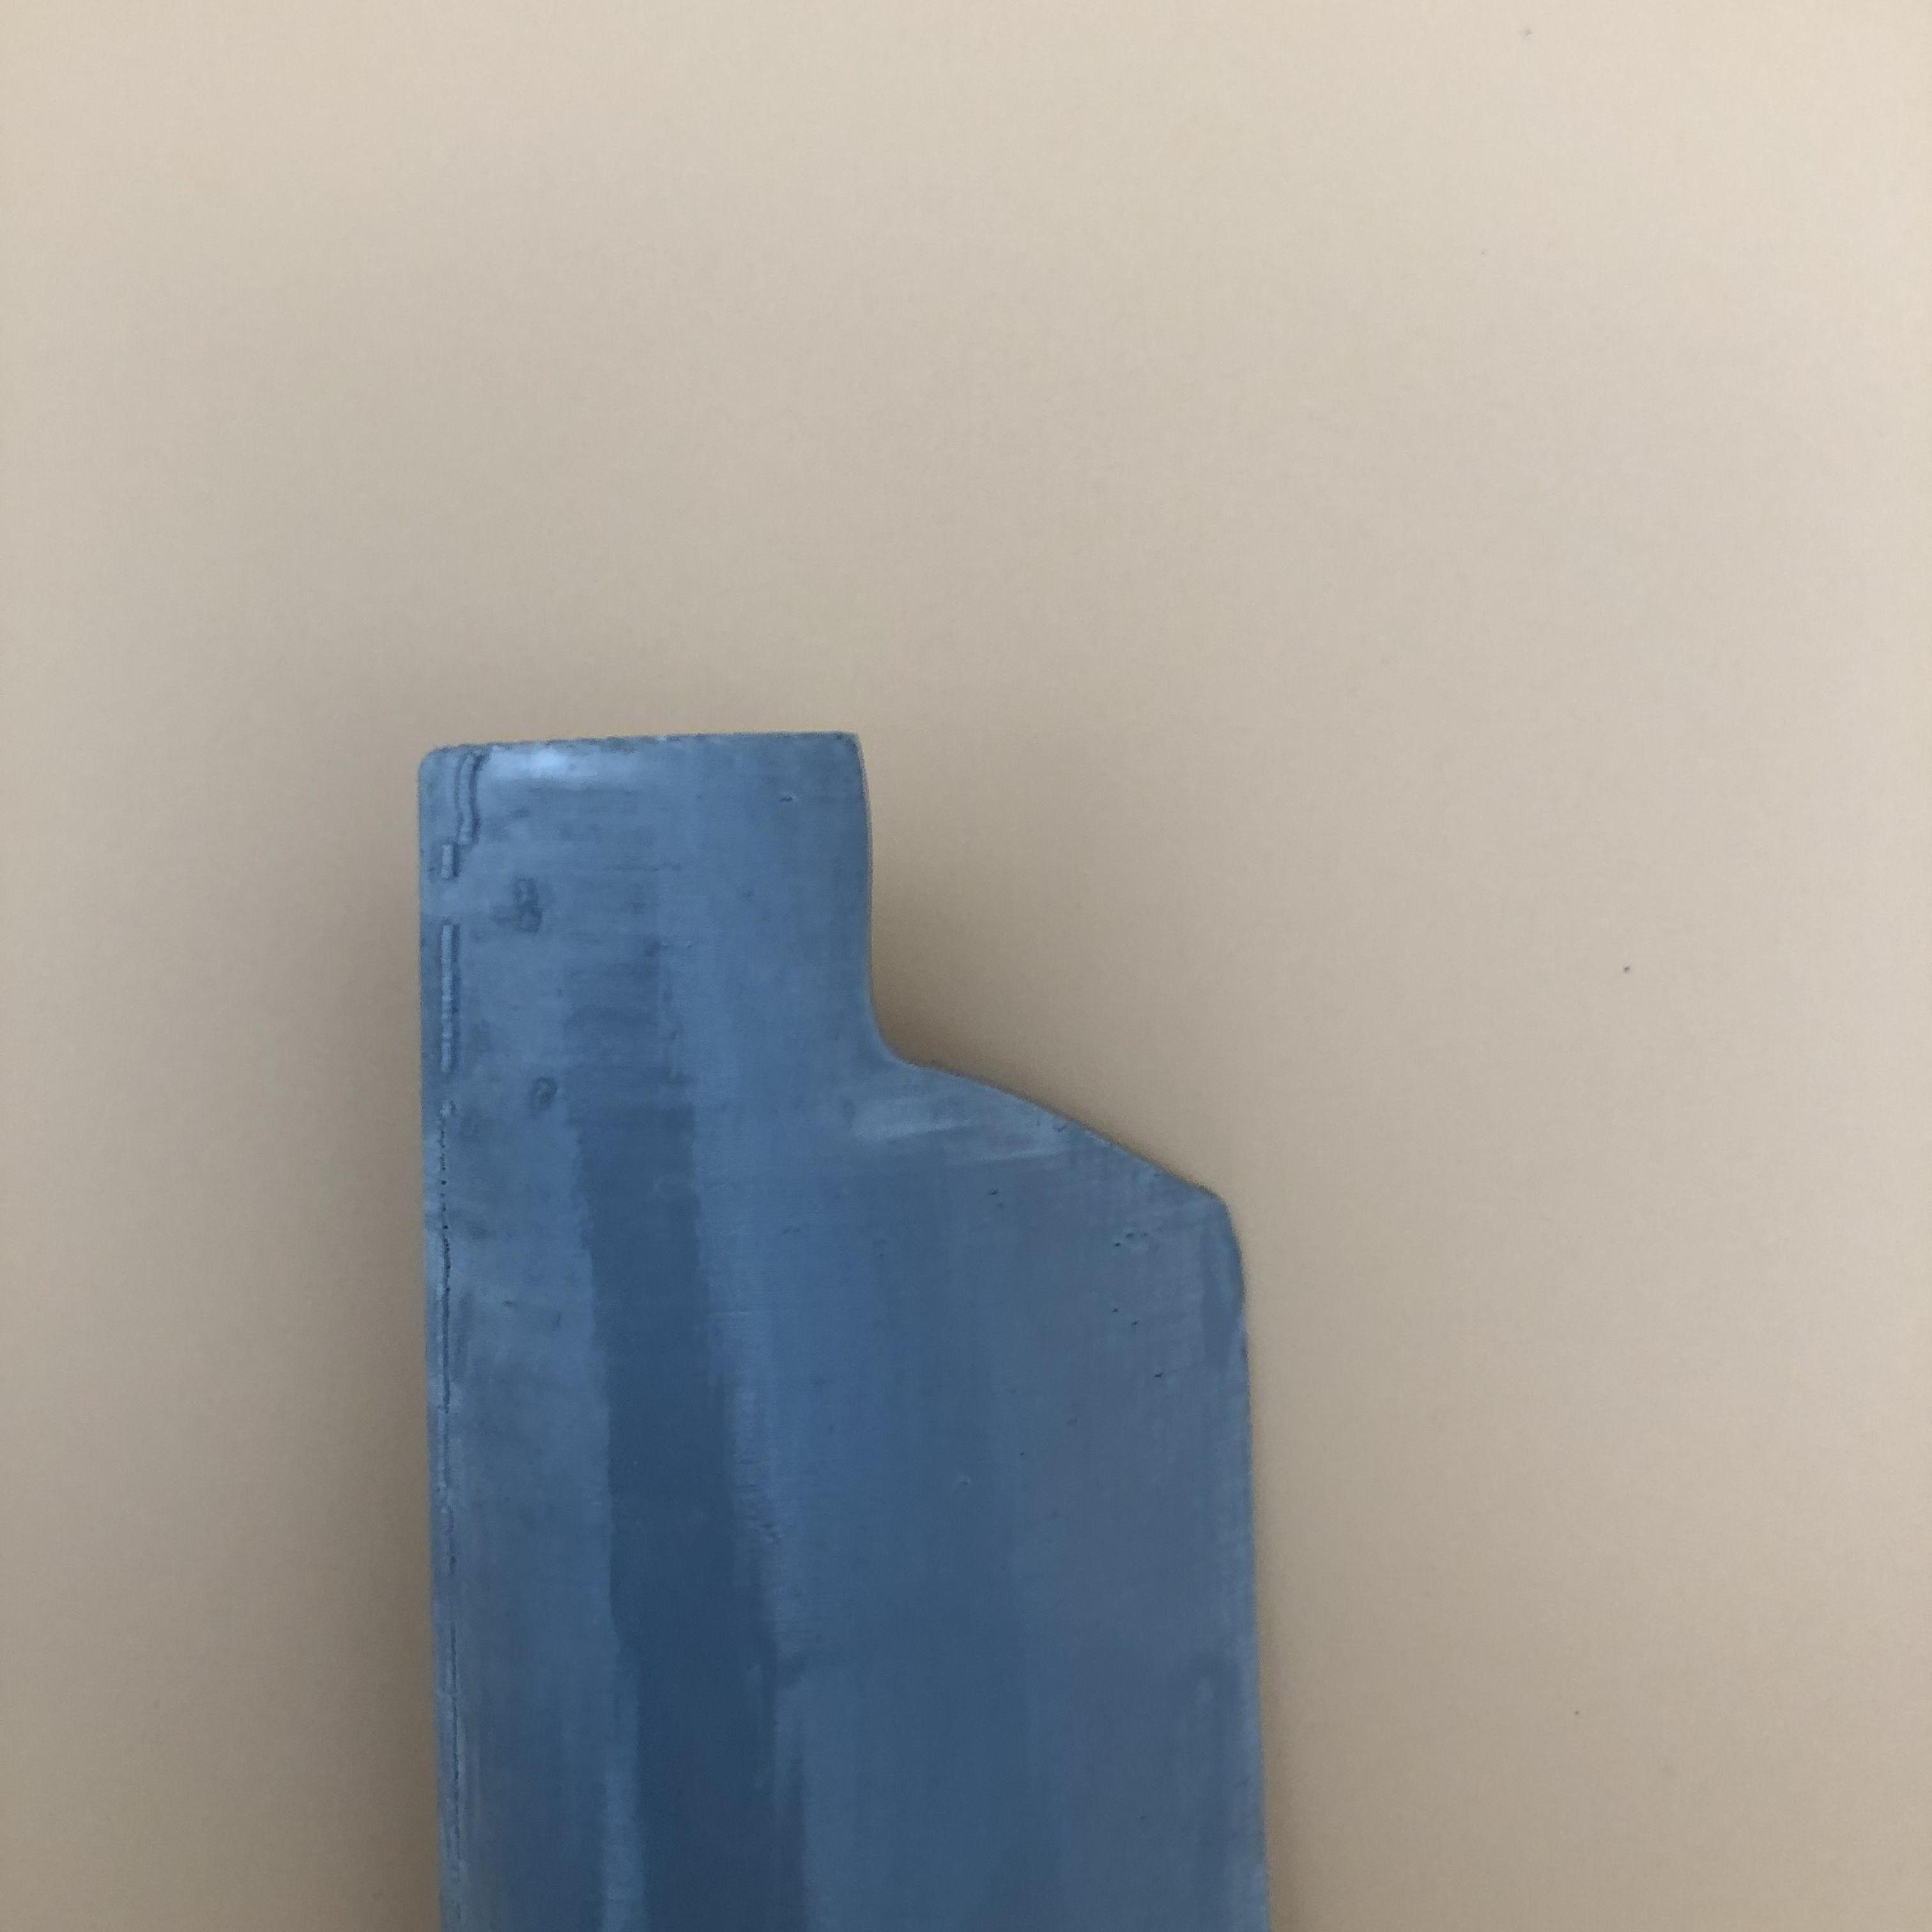fracture: (819, 755, 1210, 1217)
